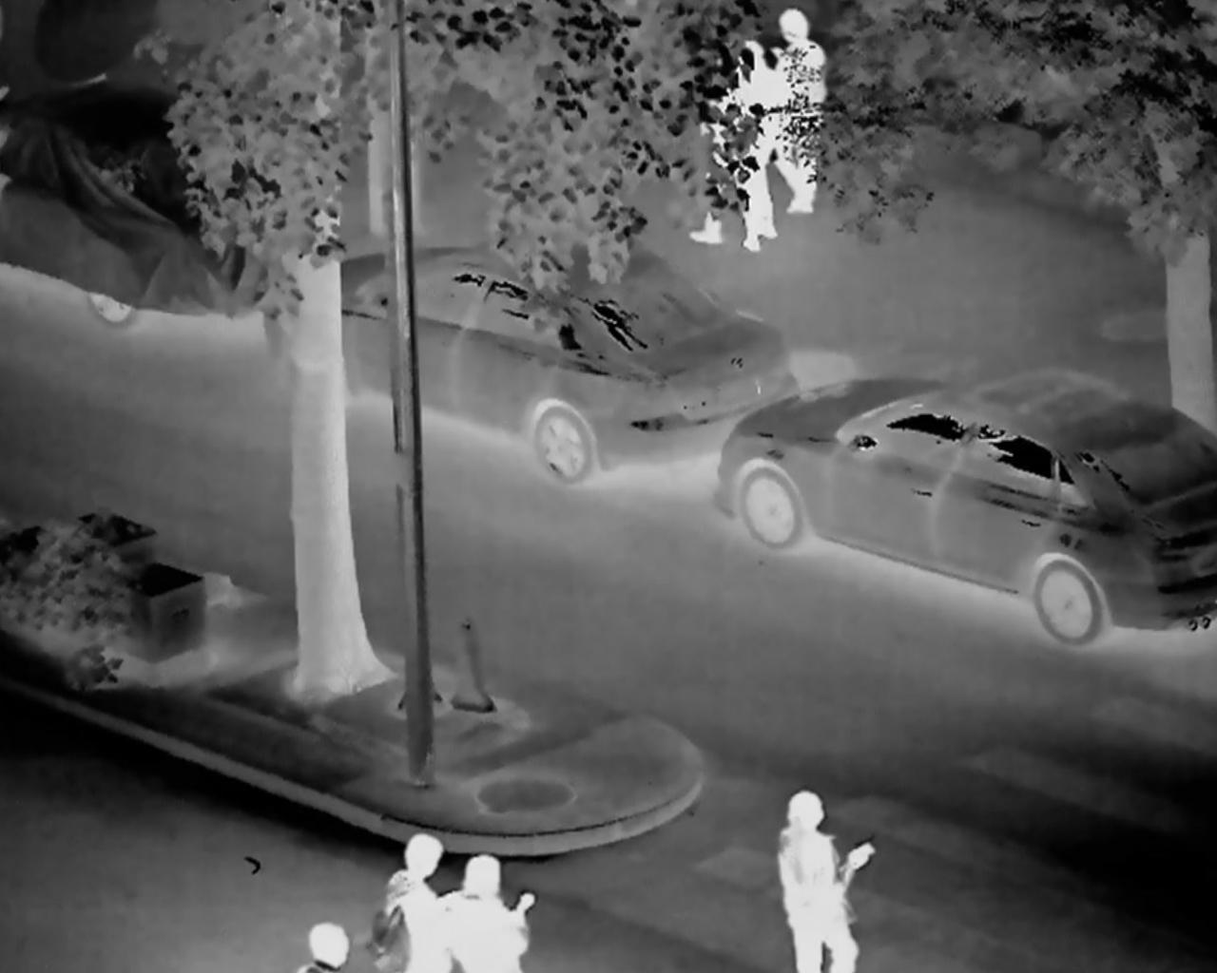person: (674, 23, 776, 264), (778, 774, 889, 973), (755, 2, 835, 212), (454, 856, 573, 973), (369, 829, 452, 973), (279, 925, 367, 973)
